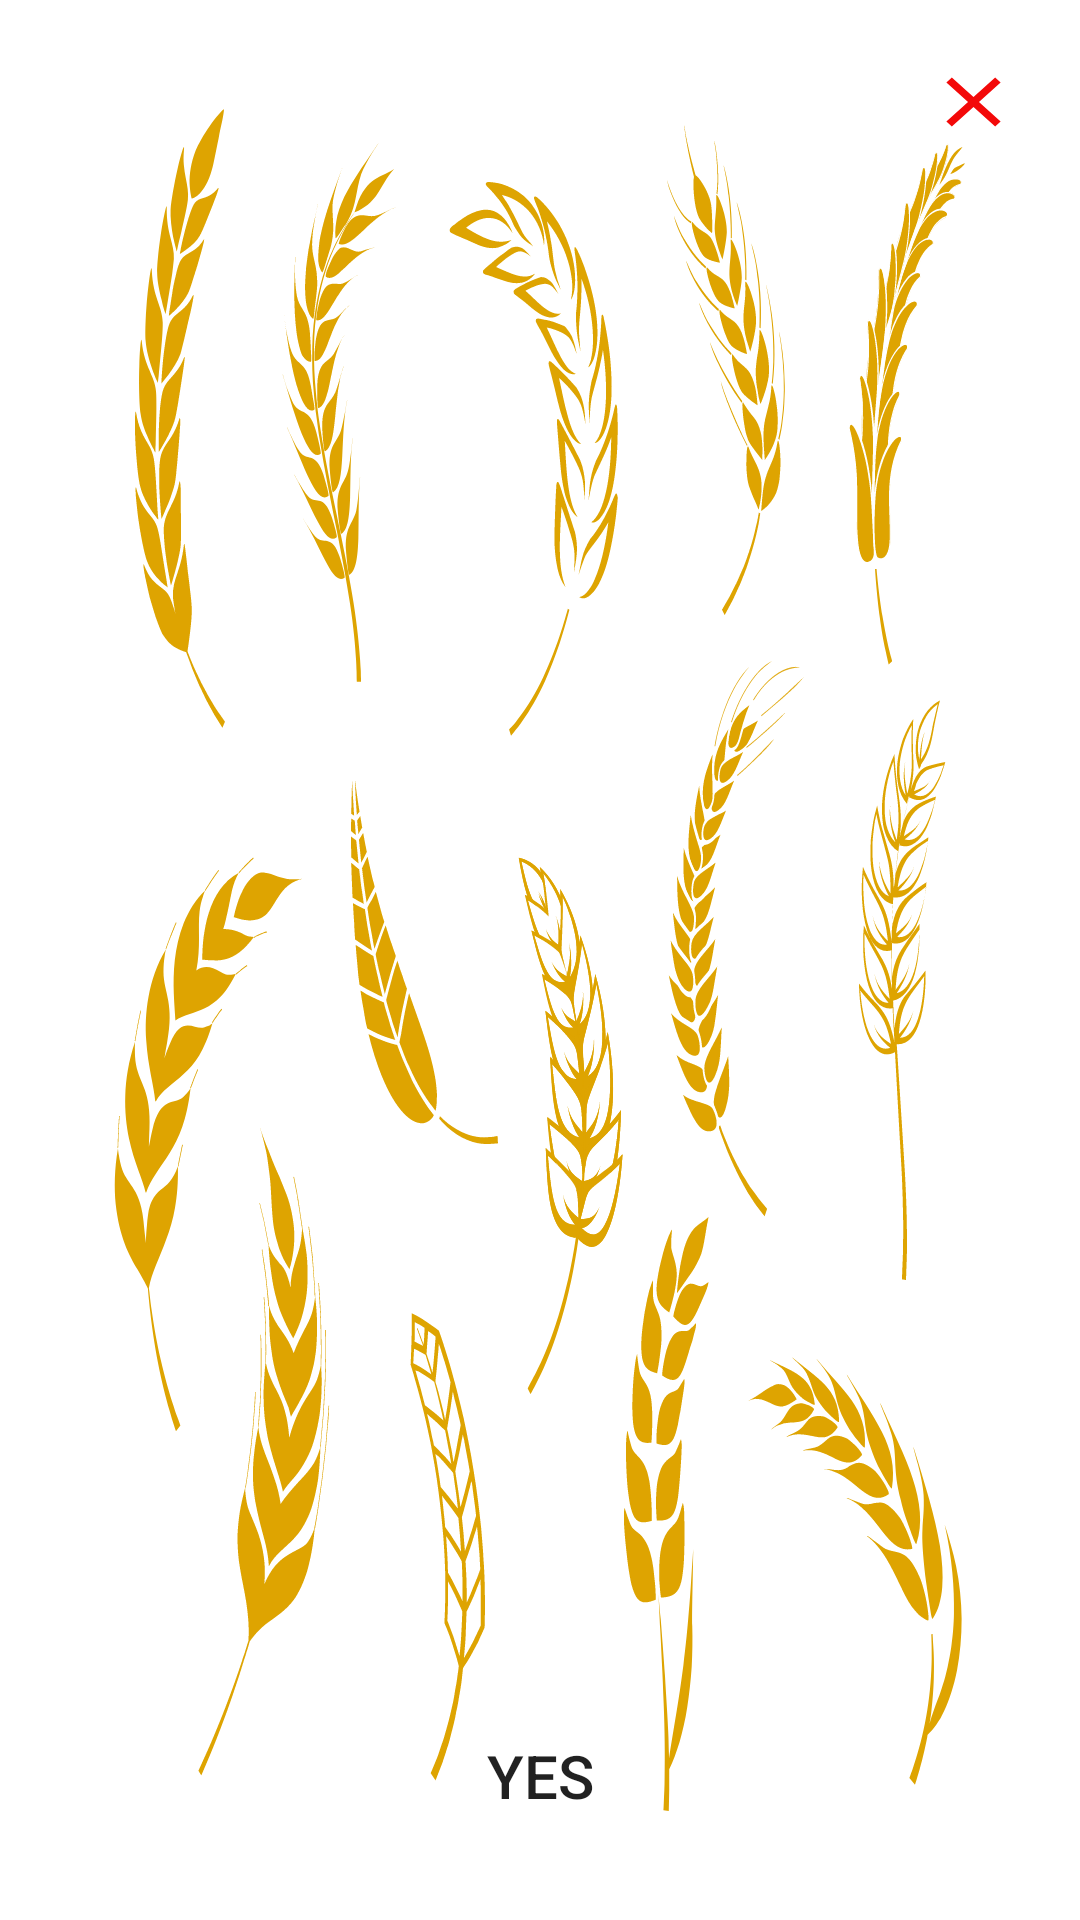

Icon click points for this 1080 x 1920 phone screenshot, format (x,y):
closebtn: (973,102)
